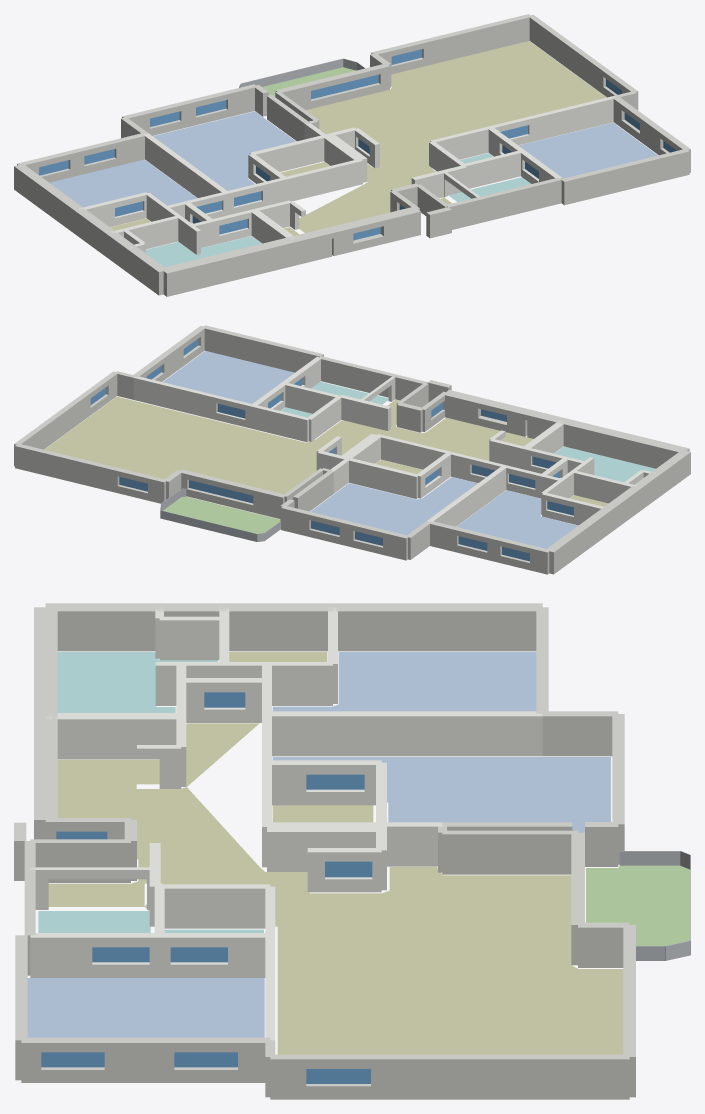
File: Screenshot 2026-10-06 123716_3d.obj
The picture shows the model from 3 angles, top to bottom: view 1: azimuth 30°, elevation 25°; view 2: azimuth 150°, elevation 25°; view 3: azimuth 270°, elevation 25°; orthographic projection. The views are drawn at different scales.
Parts seen in each view (by area): view 1: floor_R2_storage_161, floor_R3_bedroom_162, floor_R8_bedroom_167, wall_W27_60, floor_R4_bedroom_163, wall_W32_69, wall_W1_3, wall_W11_35, wall_W64_129, wall_W31_68, wall_W16_46, wall_W34_71 (+34 smaller); view 2: floor_R2_storage_161, floor_R3_bedroom_162, floor_R8_bedroom_167, floor_R4_bedroom_163, wall_W27_60, wall_W32_69, wall_W1_3, wall_W11_35, floor_R1_balcony_160, wall_W34_71, wall_W45_87, wall_W6_24 (+42 smaller); view 3: floor_R2_storage_161, floor_R3_bedroom_162, floor_R8_bedroom_167, wall_W45_87, floor_R4_bedroom_163, wall_W64_129, wall_W34_71, floor_R1_balcony_160, floor_R11_bathroom_170, wall_W55_103, wall_W46_88, wall_W37_74 (+57 smaller).
Boxes of the visible parts, x1=… form: floor_R2_storage_161: x1=284, y1=41, x2=606, y2=235; floor_R3_bedroom_162: x1=153, y1=111, x2=295, y2=190; floor_R8_bedroom_167: x1=518, y1=122, x2=657, y2=178; wall_W27_60: x1=160, y1=237, x2=296, y2=296; floor_R4_bedroom_163: x1=49, y1=159, x2=196, y2=207; wall_W32_69: x1=561, y1=149, x2=689, y2=205; wall_W1_3: x1=420, y1=14, x2=531, y2=66; wall_W11_35: x1=527, y1=96, x2=615, y2=142; wall_W64_129: x1=528, y1=14, x2=608, y2=94; wall_W31_68: x1=479, y1=177, x2=561, y2=222; wall_W16_46: x1=283, y1=160, x2=362, y2=201; wall_W34_71: x1=14, y1=165, x2=83, y2=233; floor_R2_storage_161: x1=44, y1=396, x2=533, y2=494; floor_R3_bedroom_162: x1=310, y1=477, x2=477, y2=535; floor_R8_bedroom_167: x1=163, y1=351, x2=294, y2=403; floor_R4_bedroom_163: x1=457, y1=490, x2=577, y2=548; wall_W27_60: x1=560, y1=418, x2=689, y2=468; wall_W32_69: x1=202, y1=325, x2=323, y2=372; wall_W1_3: x1=15, y1=444, x2=120, y2=492; wall_W11_35: x1=133, y1=376, x2=218, y2=419; floor_R1_balcony_160: x1=163, y1=496, x2=280, y2=533; wall_W34_71: x1=547, y1=508, x2=611, y2=574; wall_W45_87: x1=426, y1=466, x2=506, y2=526; wall_W6_24: x1=347, y1=458, x2=418, y2=498; floor_R2_storage_161: x1=48, y1=723, x2=623, y2=1054; floor_R3_bedroom_162: x1=272, y1=757, x2=610, y2=832; floor_R8_bedroom_167: x1=27, y1=978, x2=264, y2=1037; wall_W45_87: x1=267, y1=711, x2=542, y2=756; floor_R4_bedroom_163: x1=272, y1=652, x2=536, y2=711; wall_W64_129: x1=371, y1=1054, x2=629, y2=1099; wall_W34_71: x1=333, y1=603, x2=542, y2=651; floor_R1_balcony_160: x1=586, y1=865, x2=690, y2=945; floor_R11_bathroom_170: x1=57, y1=652, x2=217, y2=712; wall_W55_103: x1=442, y1=830, x2=577, y2=874; wall_W46_88: x1=46, y1=713, x2=181, y2=759; wall_W37_74: x1=45, y1=603, x2=159, y2=651.
Bounding box in the file's own units: 67.03 × 2.75 × 42.06.
